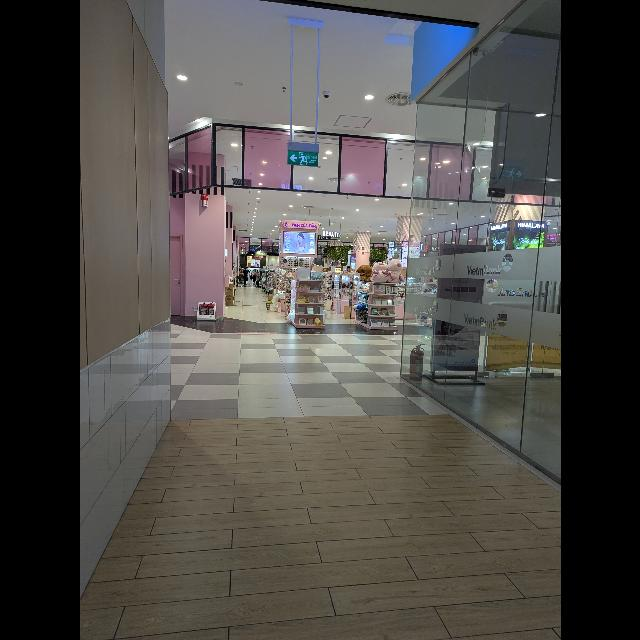exit: (286, 150, 318, 167)
